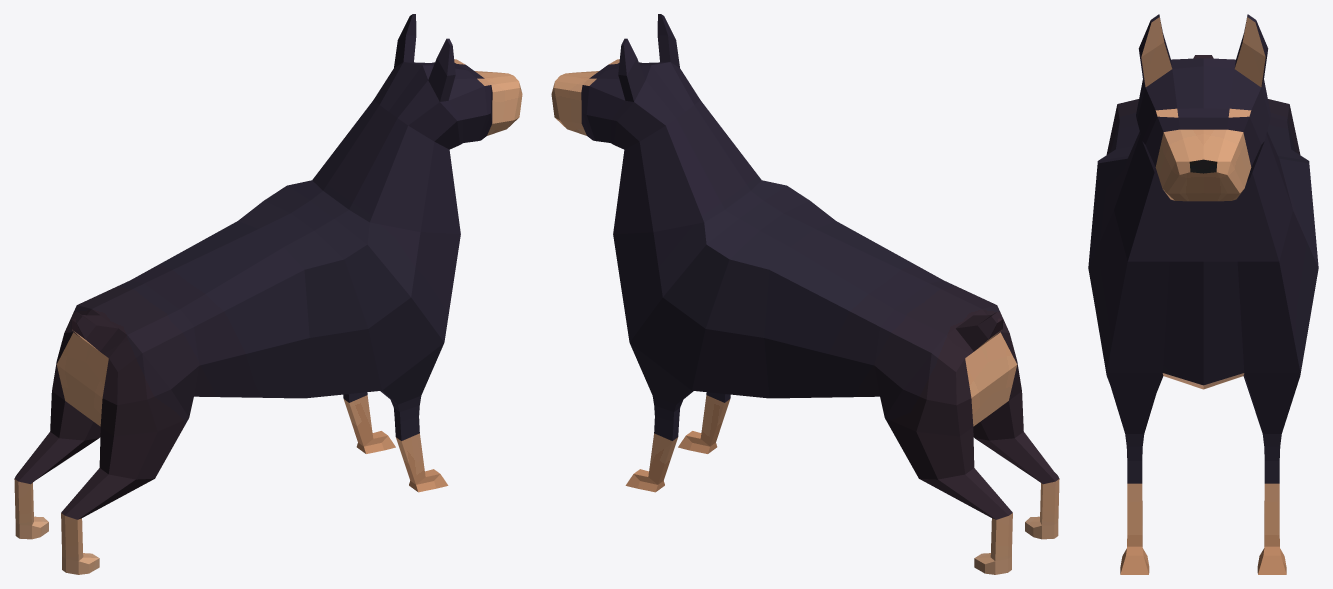
File: bIG-wEodRRS.glb
3 views of the same model, side by side, from view 1: azimuth 30°, elevation 25°; view 2: azimuth 150°, elevation 25°; view 3: azimuth 270°, elevation 25° (orthographic). The views are drawn at different scales.
Visible parts, largest first — view 1: Cube_Cube.001; view 2: Cube_Cube.001; view 3: Cube_Cube.001.
Boxes of the visible parts, box(x1,y1,x2,y2) form: Cube_Cube.001: box(14, 14, 522, 574); Cube_Cube.001: box(551, 14, 1059, 574); Cube_Cube.001: box(1088, 14, 1318, 574).
Bounding box in the file's own units: 1.15 × 1 × 0.3669.
1 material, 1 textured.
